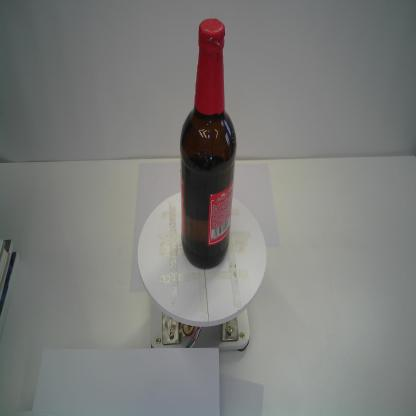Alcohol: (179, 16, 238, 272)
